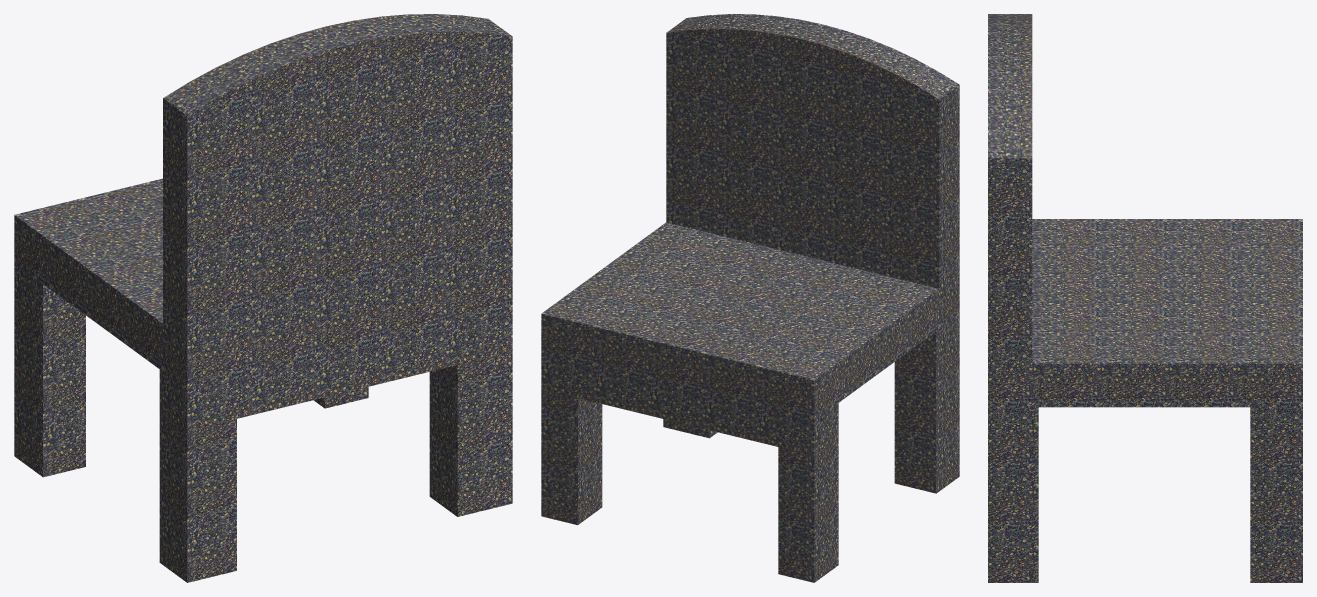
3 views of the same model, side by side, from view 1: azimuth 30°, elevation 25°; view 2: azimuth 150°, elevation 25°; view 3: azimuth 270°, elevation 25° (orthographic). The views are drawn at different scales.
Visible parts, largest first — view 1: mesh1_mesh1-geometry; view 2: mesh1_mesh1-geometry; view 3: mesh1_mesh1-geometry.
Part boxes in pixels (<box>): mesh1_mesh1-geometry: <box>14,14,512,582</box>; mesh1_mesh1-geometry: <box>541,14,959,582</box>; mesh1_mesh1-geometry: <box>988,14,1302,582</box>.
Bounding box in the file's own units: 0.5003 × 0.7329 × 0.4611.
Materials: 1 (1 with a texture image).
